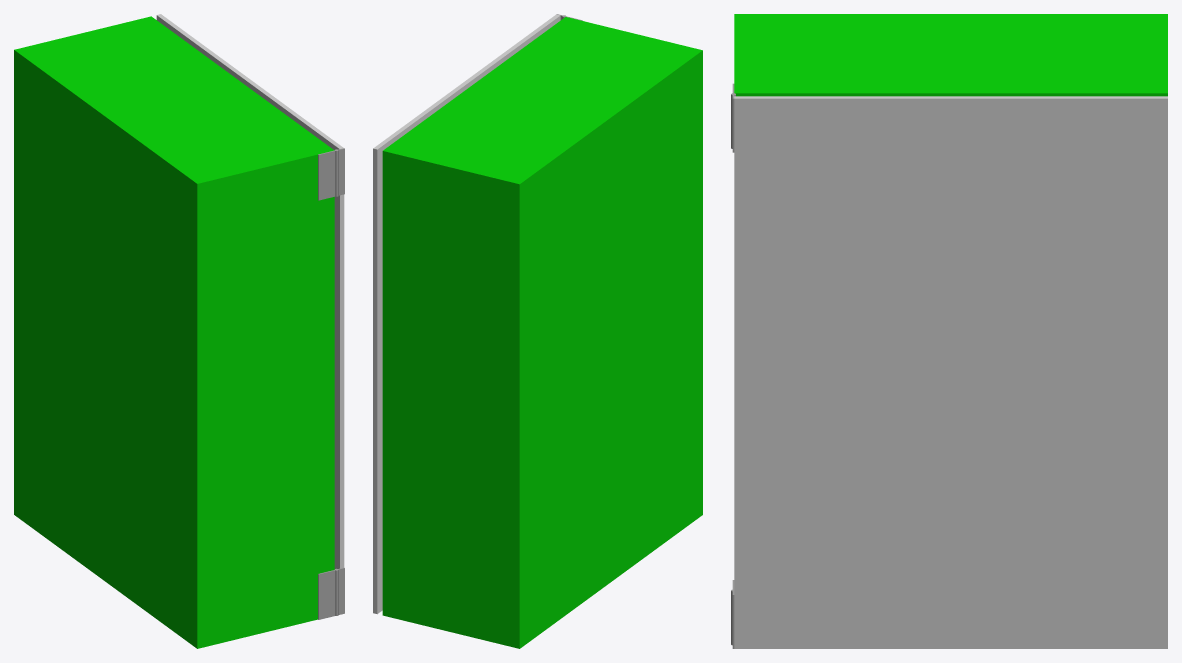
Rendered from WW_SwitchBoard_02_Env.fbx.
3 renders of one model, left to right at view 1: azimuth 30°, elevation 25°; view 2: azimuth 150°, elevation 25°; view 3: azimuth 270°, elevation 25°, orthographic. The views are drawn at different scales.
Visible parts, largest first — view 1: BoxBase_GEO, Door_GEO, Hinge2, Hinge1; view 2: BoxBase_GEO, Door_GEO; view 3: Door_GEO, BoxBase_GEO.
Boxes of the visible parts, <box> form: BoxBase_GEO: <box>14,16,334,648</box>; Door_GEO: <box>156,14,344,568</box>; Hinge2: <box>318,149,338,200</box>; Hinge1: <box>318,568,338,619</box>; BoxBase_GEO: <box>382,17,702,648</box>; Door_GEO: <box>373,14,560,614</box>; Door_GEO: <box>734,96,1167,648</box>; BoxBase_GEO: <box>734,14,1167,96</box>.
Size of the model in its own units: 23.13 by 70 by 50.36.
